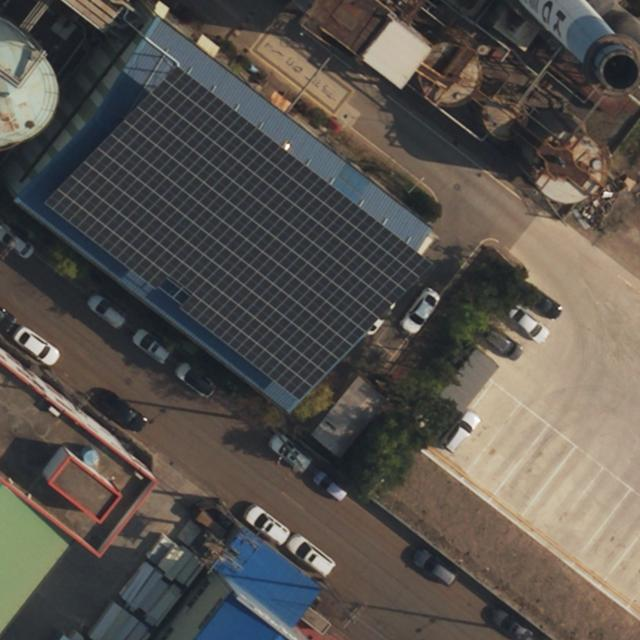panel: (44, 65, 433, 402)
